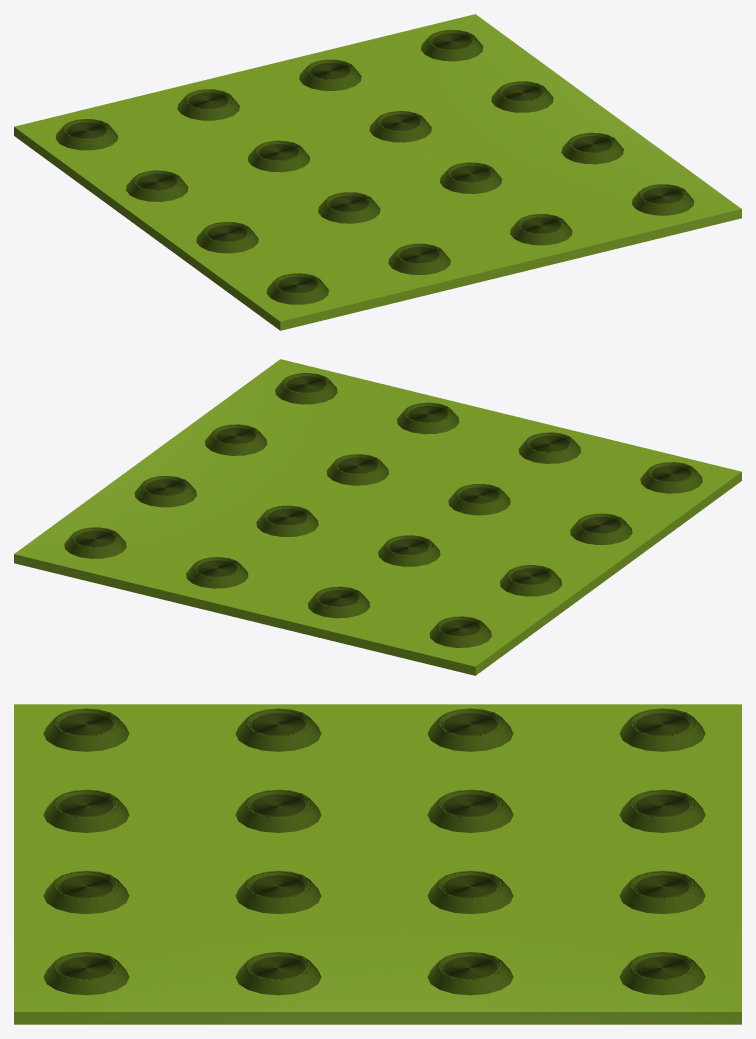
File: Grass_Trap Plane.fbx
3 renders of one model, top to bottom at view 1: azimuth 30°, elevation 25°; view 2: azimuth 150°, elevation 25°; view 3: azimuth 270°, elevation 25°, orthographic. The views are drawn at different scales.
Visible parts, largest first — view 1: Cube.004; view 2: Cube.004; view 3: Cube.004.
Boxes of the visible parts, left/top/right/bottom form: Cube.004: left=14, top=14, right=741, bottom=330; Cube.004: left=14, top=359, right=741, bottom=675; Cube.004: left=14, top=704, right=741, bottom=1024.
Size of the model in its own units: 78.74 by 2.78 by 78.74.
1 material, 1 textured.
